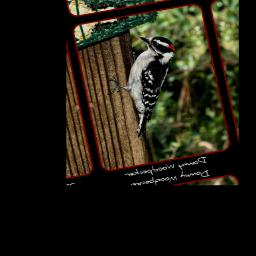Woodpecker: (95, 30, 192, 141)
